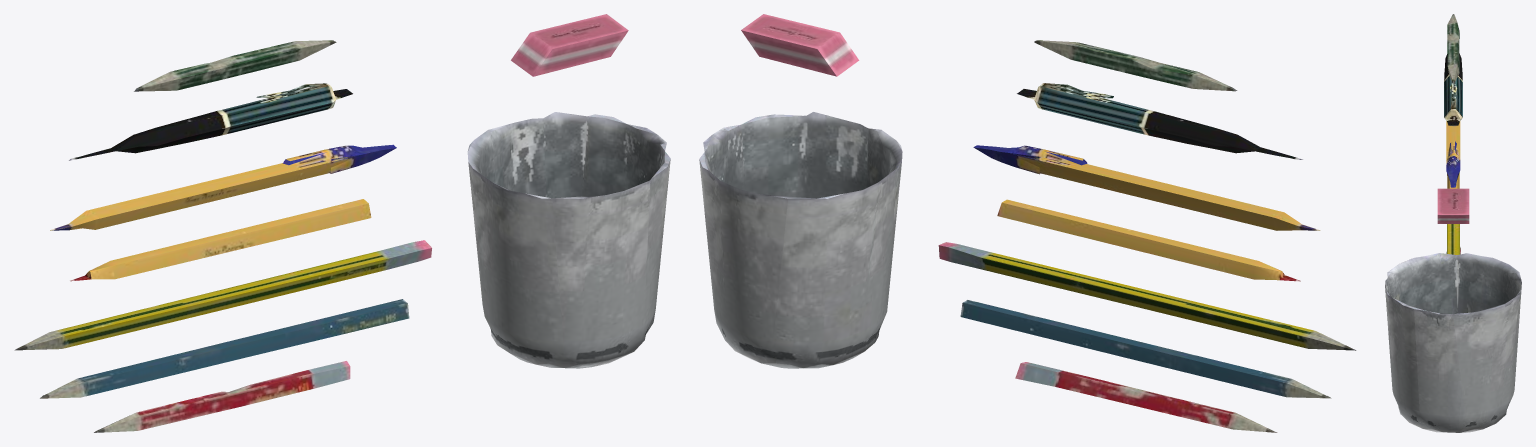
The model's file is stationery.glb.
The picture shows the model from 3 angles, left to right: view 1: azimuth 30°, elevation 25°; view 2: azimuth 150°, elevation 25°; view 3: azimuth 270°, elevation 25°; orthographic projection. The views are drawn at different scales.
Parts seen in each view (by area): view 1: mesh; view 2: mesh; view 3: mesh.
Part boxes in pixels (left/top/right/bottom): mesh: left=14, top=14, right=670, bottom=432; mesh: left=699, top=14, right=1356, bottom=432; mesh: left=1385, top=14, right=1521, bottom=432.
Size of the model in its own units: 0.294 by 0.16 by 0.0771.
1 material, 1 textured.
